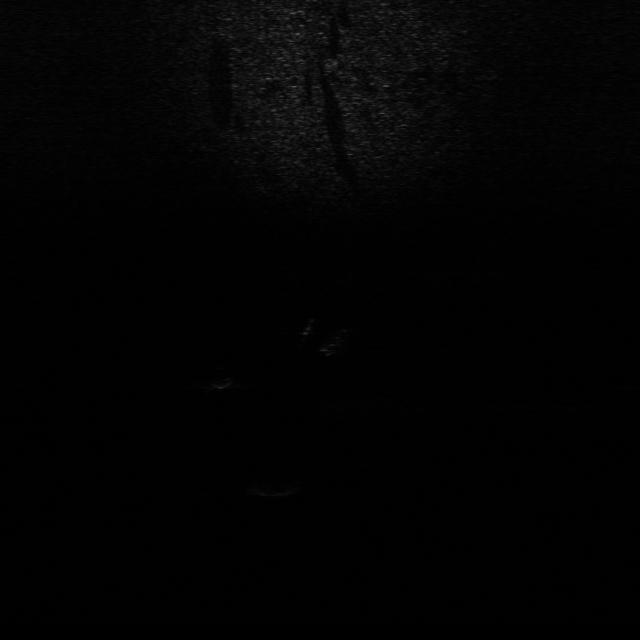ball: (200, 363, 242, 391)
circle cage: (246, 474, 304, 498)
human body: (296, 316, 360, 356)
